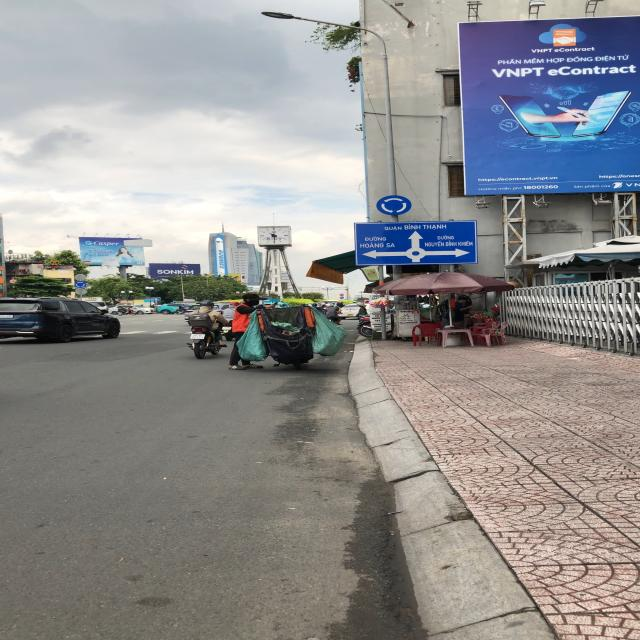Bien bao noi giao nhau chay theo vong xuyen: (374, 194, 413, 215), (74, 280, 89, 289)
